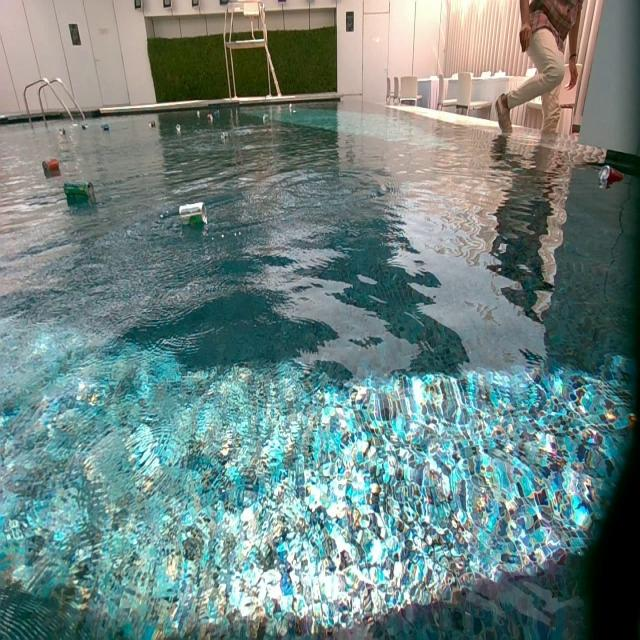Cans: (178, 202, 206, 228), (600, 166, 626, 189), (64, 180, 92, 200), (41, 160, 58, 178), (44, 158, 61, 173), (207, 113, 216, 122), (262, 114, 271, 123), (149, 119, 157, 128), (102, 125, 110, 134), (221, 132, 228, 142), (81, 122, 88, 130), (60, 129, 66, 137), (176, 122, 182, 130), (194, 110, 200, 118), (289, 103, 294, 109)
